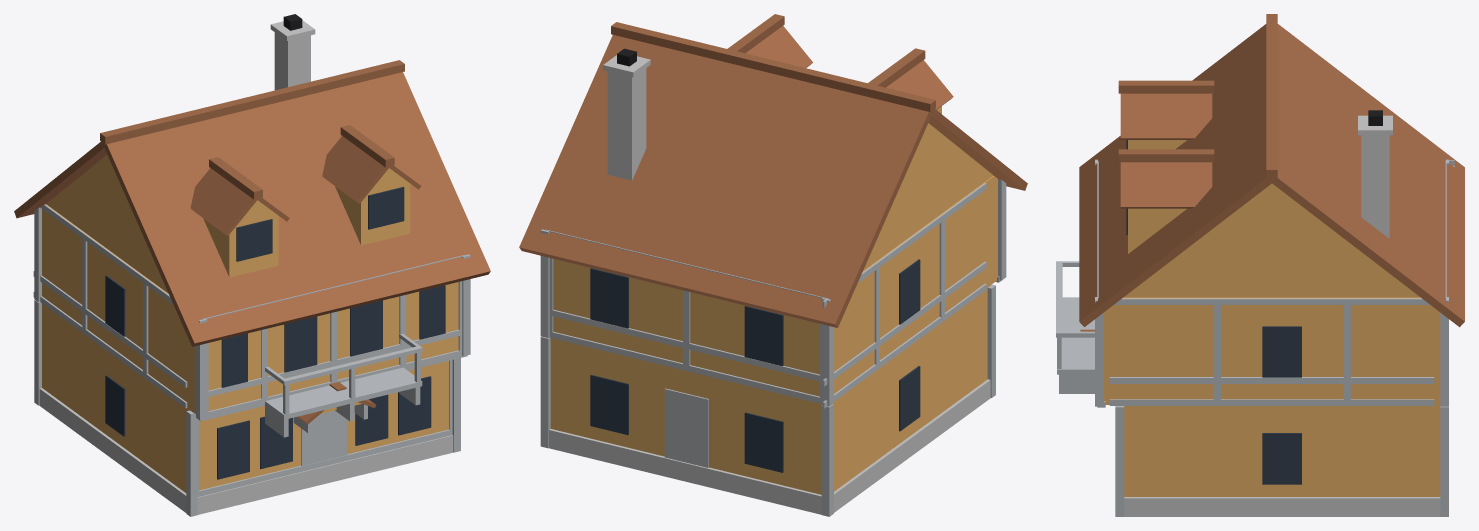
The model's file is generated.dormer_house.gltf.
The picture shows the model from 3 angles, left to right: view 1: azimuth 30°, elevation 25°; view 2: azimuth 150°, elevation 25°; view 3: azimuth 270°, elevation 25°; orthographic projection. The views are drawn at different scales.
Visible parts, largest first — view 1: dormer_house; view 2: dormer_house; view 3: dormer_house.
Part boxes in pixels (box(x1,y1,x2,y2)): dormer_house: box(14, 14, 490, 516); dormer_house: box(519, 14, 1027, 516); dormer_house: box(1056, 14, 1464, 516).
Bounding box in the file's own units: 9.1 × 10.32 × 10.07.
